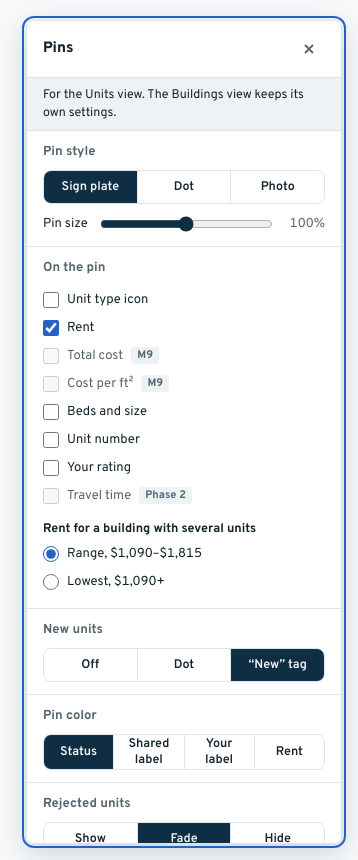
Test: PinsPanel › greys out text fields for dots and brings them back for plates
This screenshot has width=358, height=860.
Expected: the checkbox labelled "Rent" is checked, 43,320 -> 59,336
Step 1. Click the button "Dot" below "Pin style" → x=185, y=187, box 138,171 -> 231,203
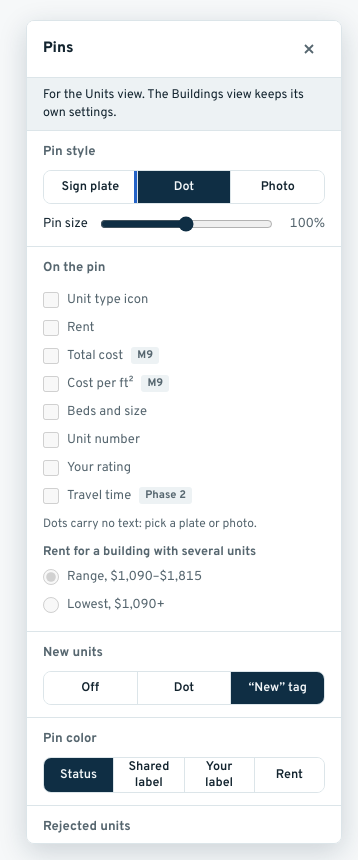
Expected: the checkbox labelled "Rent" is disabled, 43,320 -> 59,336
Expected: the checkbox labelled "Beds and size" is disabled, 43,404 -> 59,420
Expected: the radio button labelled "Range, $1,090–$1,815" is disabled, 43,570 -> 59,586
Step 2. Click the button "Photo" → x=278, y=187, box 231,171 -> 324,203
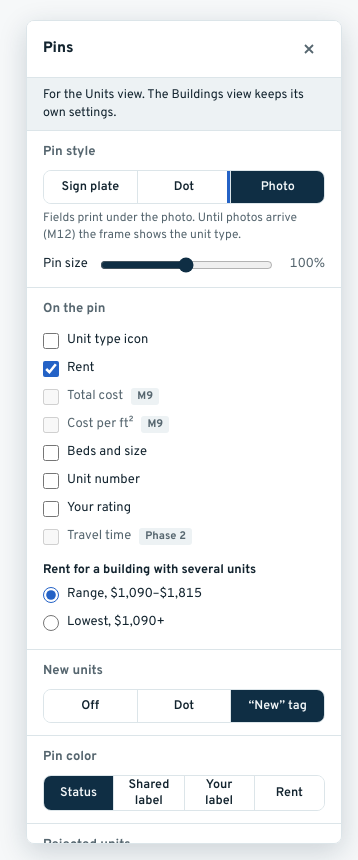
Expected: the checkbox labelled "Rent" is enabled, 43,361 -> 59,377
Expected: the checkbox labelled "Rent" is checked, 43,361 -> 59,377
